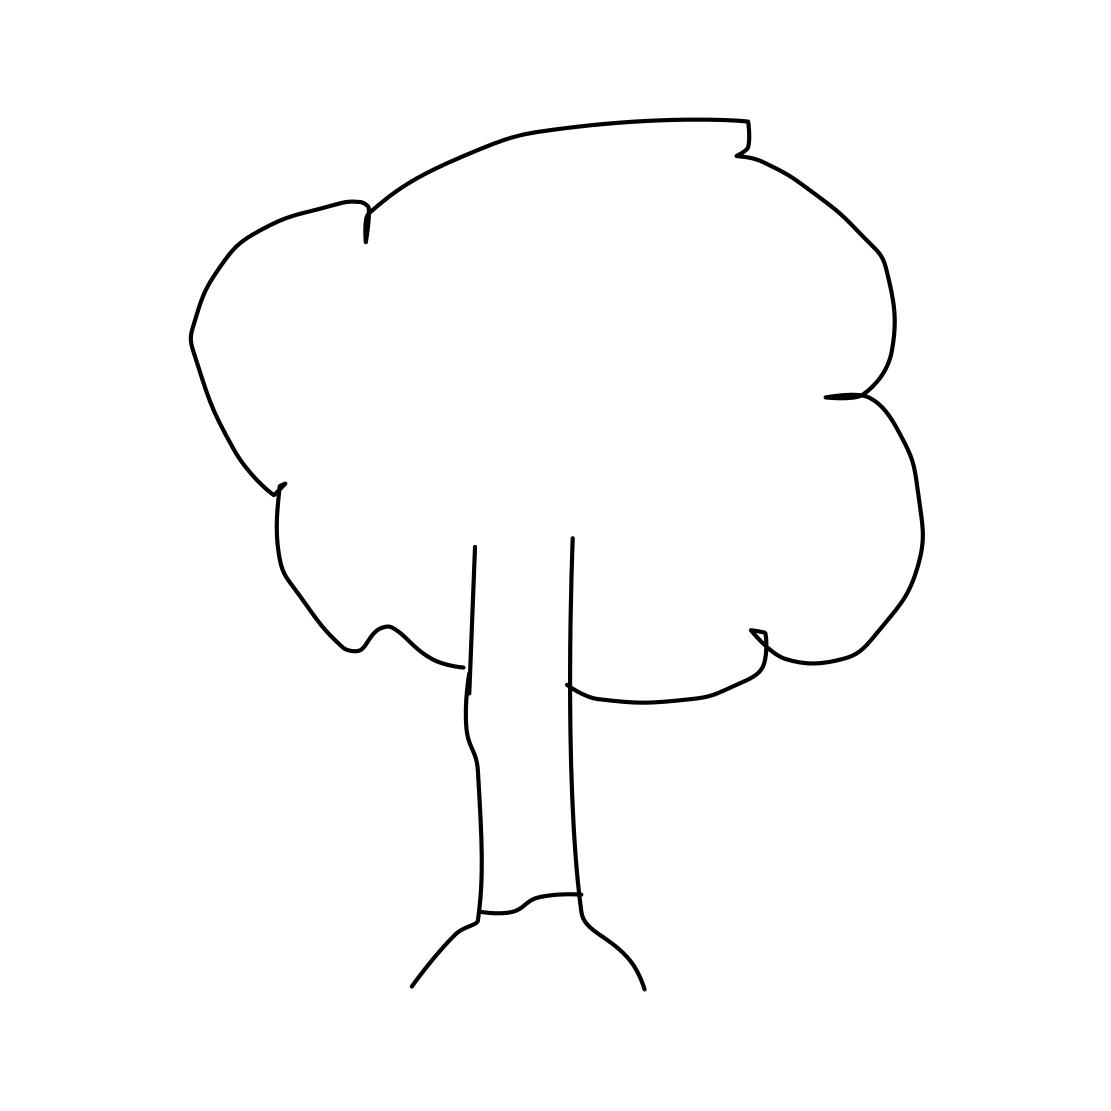Tree: (147, 69, 951, 1000)
